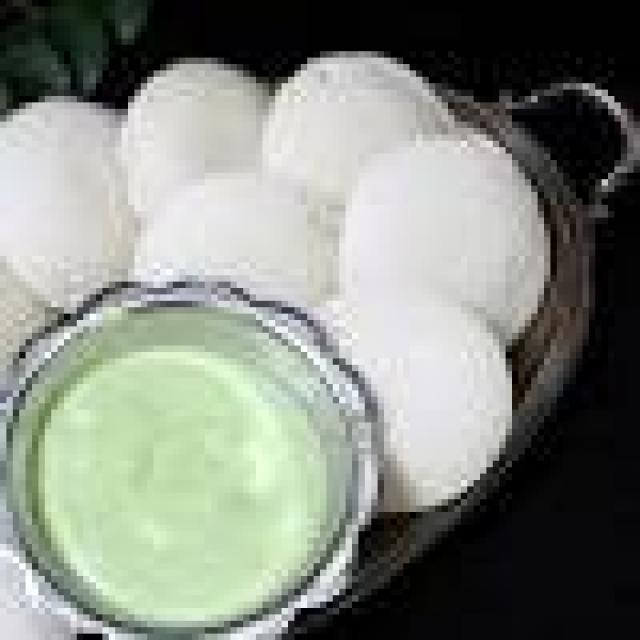chutney: (38, 339, 301, 602)
idli: (288, 275, 506, 512), (339, 128, 544, 346), (109, 38, 288, 244), (122, 154, 320, 339), (256, 51, 442, 237), (0, 90, 122, 320)
